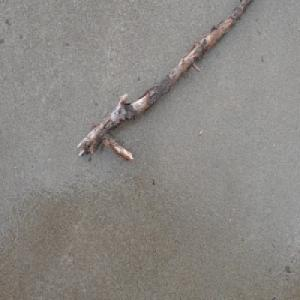Wood: (76, 0, 252, 163)
